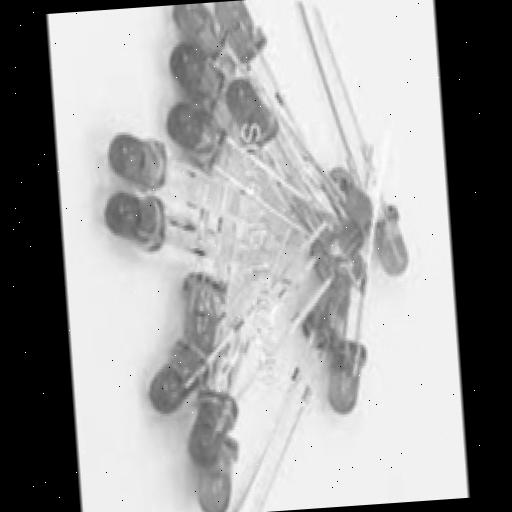LED: (167, 40, 283, 164), (145, 330, 251, 453), (186, 375, 278, 480), (321, 336, 411, 440), (156, 252, 250, 348), (148, 83, 226, 195), (88, 118, 182, 204), (86, 179, 178, 262), (220, 68, 280, 174), (375, 199, 431, 289)
